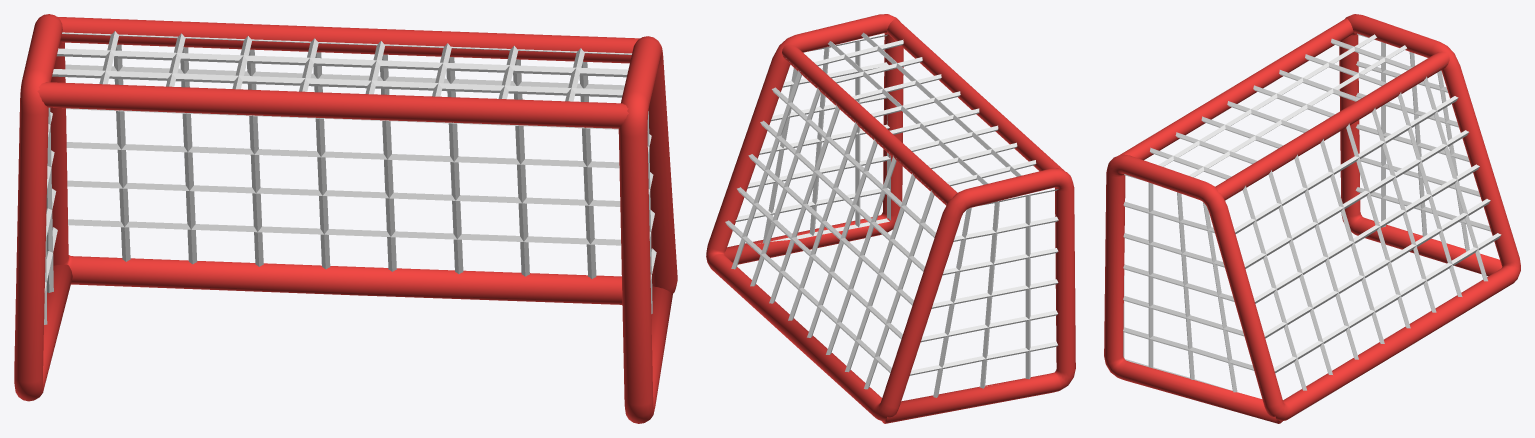
File: goal_net.gltf
The picture shows the model from 3 angles, left to right: view 1: azimuth 30°, elevation 25°; view 2: azimuth 150°, elevation 25°; view 3: azimuth 270°, elevation 25°; orthographic projection. The views are drawn at different scales.
Parts seen in each view (by area): view 1: Cylinder.476, Plane.306; view 2: Cylinder.476, Plane.306; view 3: Cylinder.476, Plane.306.
Part boxes in pixels (left/top/right/bottom): Cylinder.476: left=14, top=14, right=677, bottom=423; Plane.306: left=44, top=31, right=656, bottom=324; Cylinder.476: left=706, top=14, right=1075, bottom=423; Plane.306: left=725, top=32, right=1058, bottom=397; Cylinder.476: left=1104, top=14, right=1520, bottom=423; Plane.306: left=1123, top=33, right=1501, bottom=392.
Bounding box in the file's own units: 2.47 × 1.29 × 2.19.
Materials: 1 (1 with a texture image).
